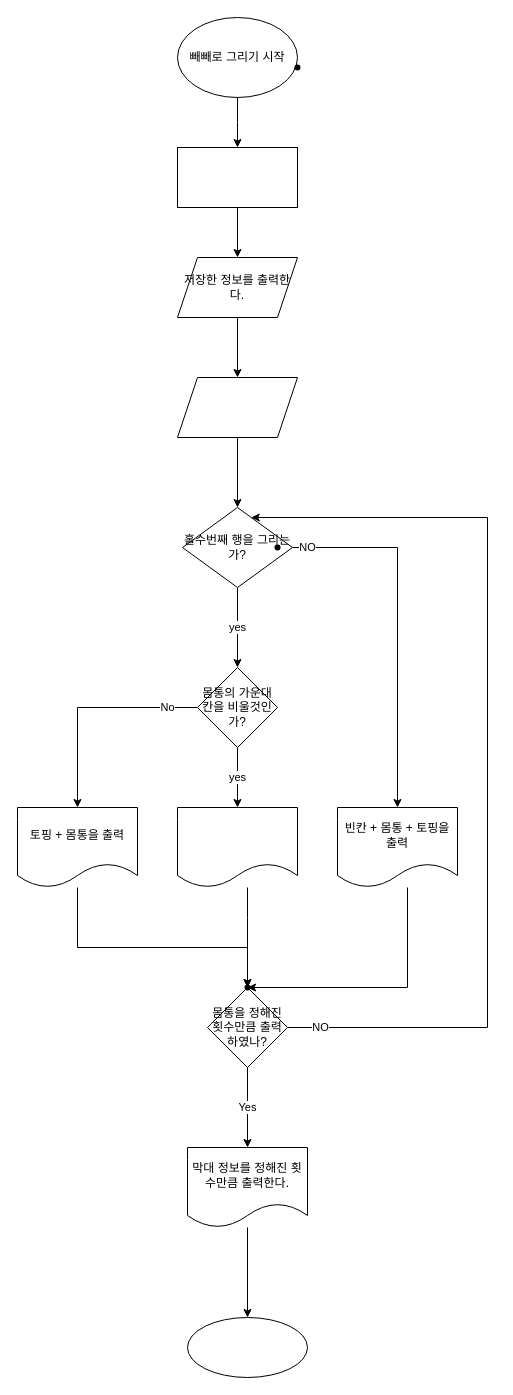
Some shapes in this 513 by 1395 pixel diagram are drawn without their labels. The centre of each missing label's shape, as x and y in pixels:
"변수를 통하여 입력정보를 받는다." belongs at point (237, 177).
"빼빼로 그리기 끝" belongs at point (247, 1347).
"빼빼로 몸통을 정해진 횟수만큼 그린다." belongs at point (237, 407).
"토핑 + 몸통을 비운채로 출력" belongs at point (237, 847).
